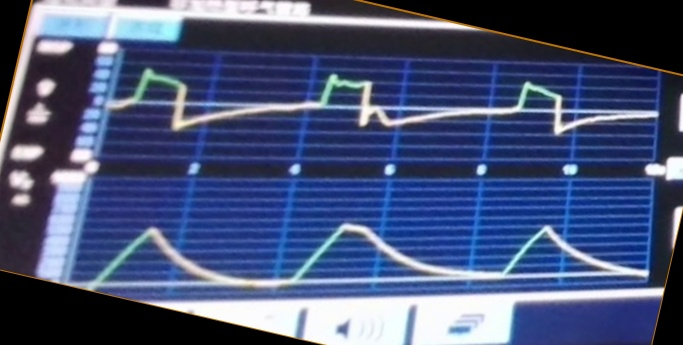Premature_cycling Flow: (118, 66, 639, 156)
Premature_cycling Volume: (85, 214, 644, 288)
